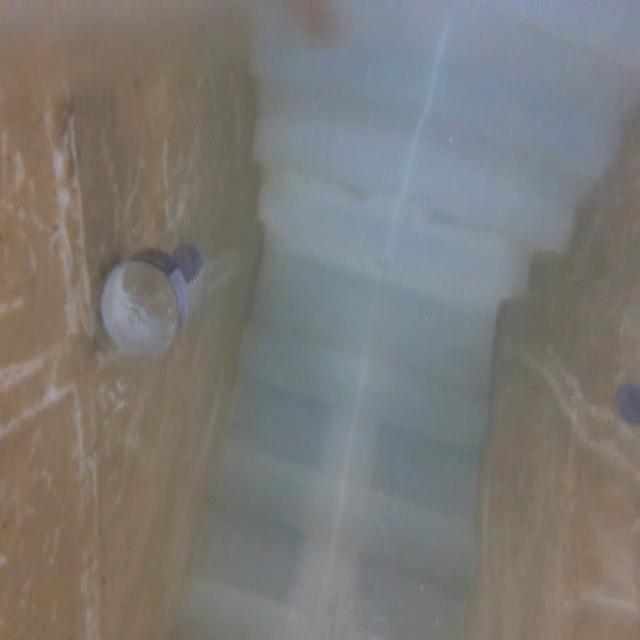plastic bottle: (83, 228, 227, 390)
